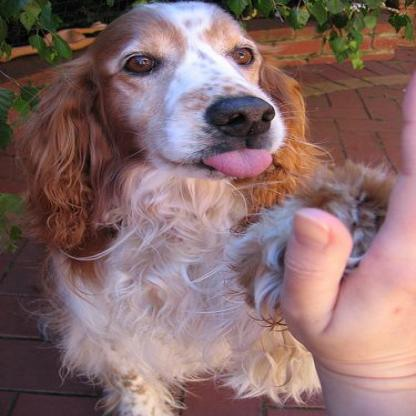Welsh_springer_spaniel: (0, 1, 384, 413)
